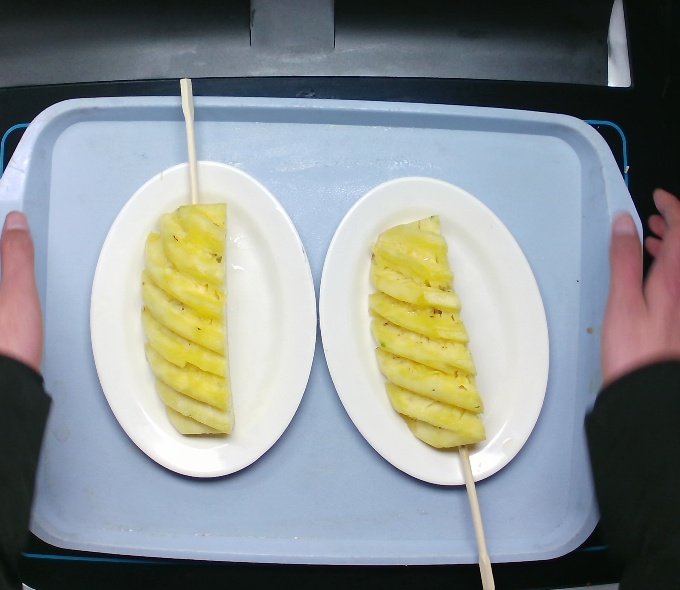wcq-BoLuo: (354, 212, 507, 452), (137, 193, 245, 442)
